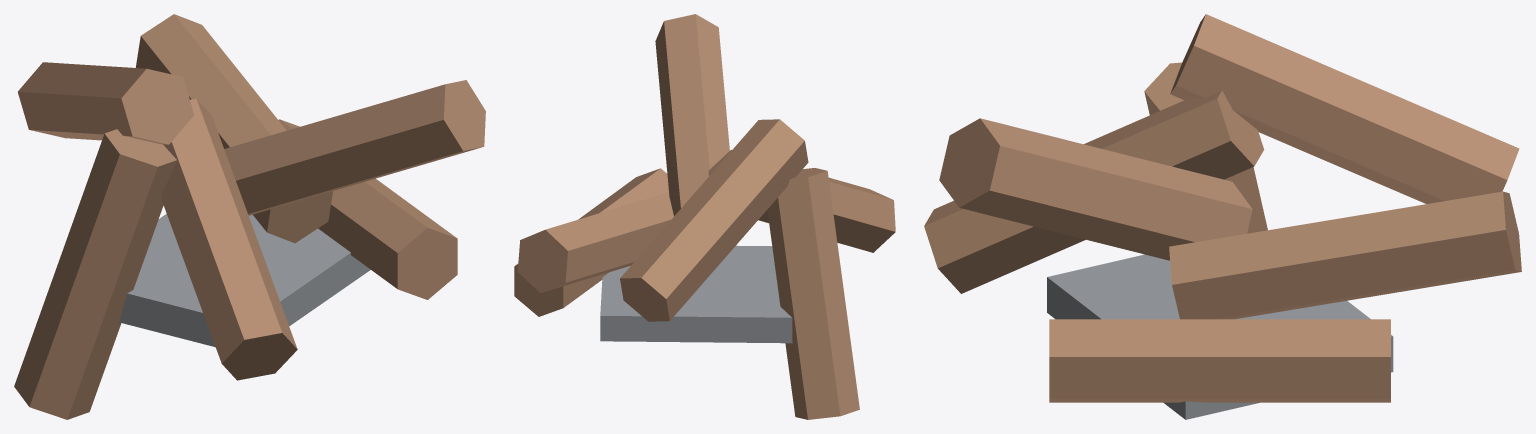
Rendered from scrap.glb.
The picture shows the model from 3 angles, left to right: view 1: azimuth 30°, elevation 25°; view 2: azimuth 150°, elevation 25°; view 3: azimuth 270°, elevation 25°; orthographic projection. The views are drawn at different scales.
Visible parts, largest first — view 1: scrap; view 2: scrap; view 3: scrap.
Part boxes in pixels (x1,y1,x2,y2): scrap: (14, 14, 485, 419); scrap: (514, 14, 895, 419); scrap: (924, 14, 1521, 419).
Bounding box in the file's own units: 0.3568 × 0.3325 × 0.455.
